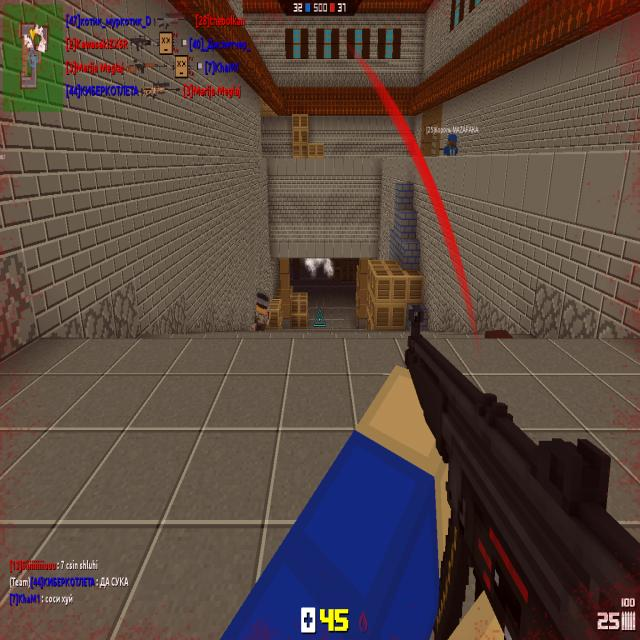enemy: (254, 288, 271, 330)
